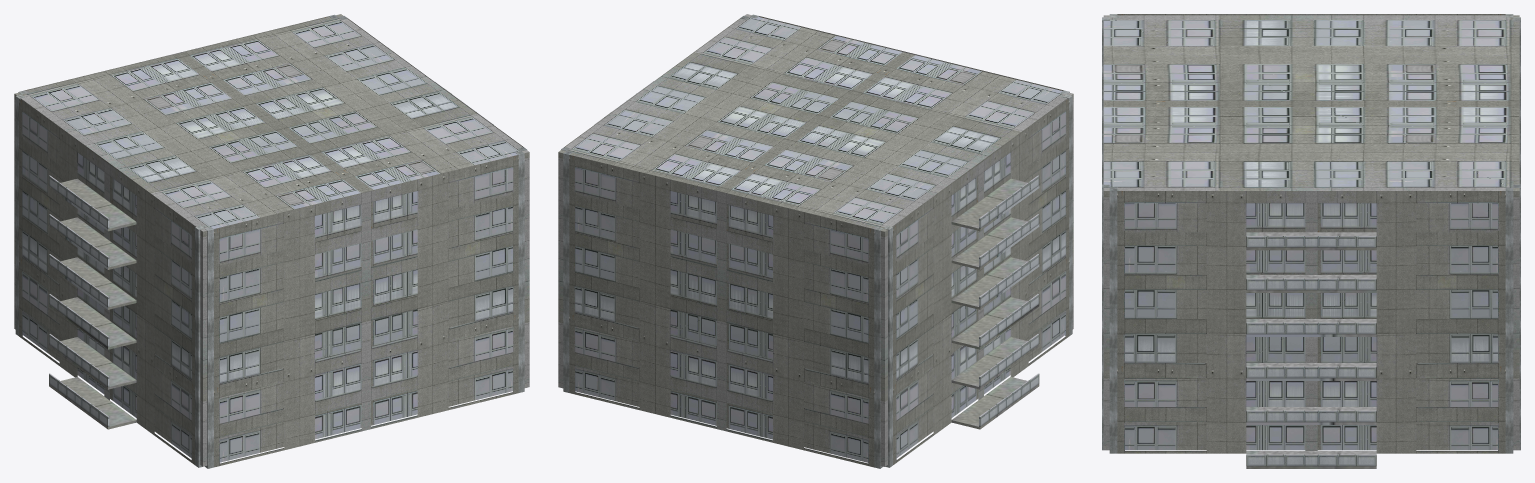
The model's file is BagSS10mid_300.fbx.
The picture shows the model from 3 angles, left to right: view 1: azimuth 30°, elevation 25°; view 2: azimuth 150°, elevation 25°; view 3: azimuth 270°, elevation 25°; orthographic projection. The views are drawn at different scales.
Visible parts, largest first — view 1: midBox300, midMain300, midCrete300; view 2: midBox300, midMain300, midCrete300; view 3: midBox300, midMain300, midCrete300.
Boxes of the visible parts, x1,y1,x2,y2 form: midBox300: [14, 14, 529, 466]; midMain300: [19, 16, 523, 467]; midCrete300: [15, 14, 526, 468]; midBox300: [558, 14, 1073, 466]; midMain300: [565, 16, 1069, 467]; midCrete300: [561, 14, 1072, 468]; midBox300: [1103, 15, 1519, 450]; midMain300: [1117, 14, 1505, 468]; midCrete300: [1102, 14, 1520, 453].
Size of the model in its own units: 51.84 by 30.56 by 44.16.
